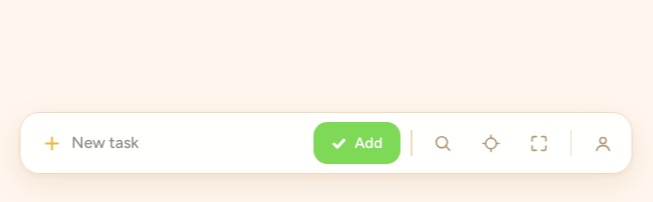
Test: Toolbar + AccountMenu interaction › closes the account menu when clicking a different toolbar button
The width and height of the screenshot is (653, 202).
Click the button titled "Account".
click(602, 143)  # box top-left (582, 122), bottom-right (624, 164)
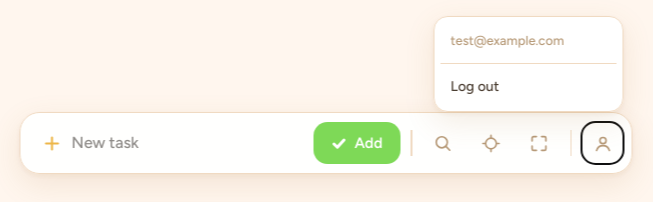
Result: the text "test@example.com" is shown at top-left (450, 33), bottom-right (564, 48)
Click the button titled "Search tasks".
click(443, 143)  # box top-left (422, 122), bottom-right (464, 164)
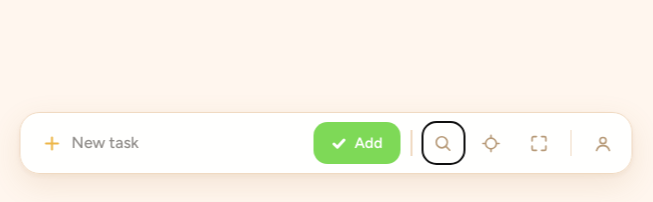
Result: the text "test@example.com" is gone
